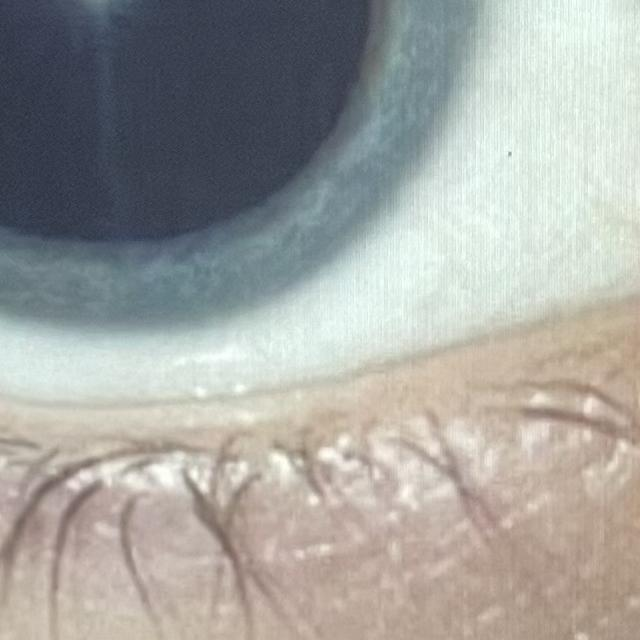eye: (0, 0, 640, 430)
iris: (0, 0, 491, 341)
